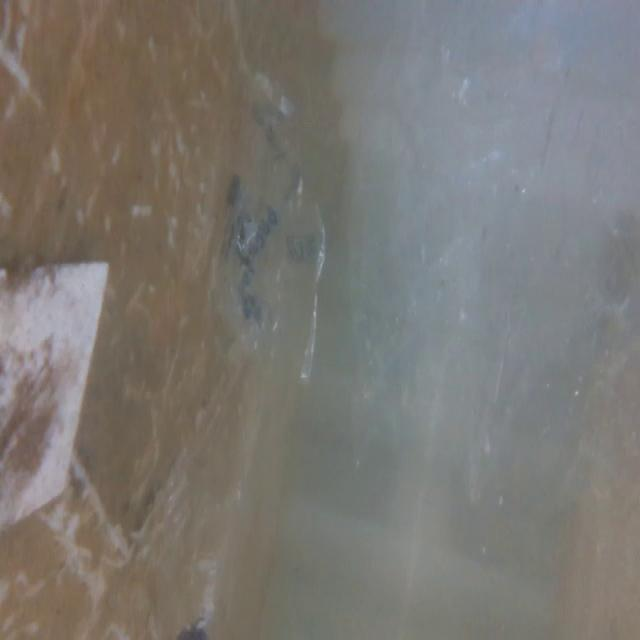metal: (0, 258, 119, 538)
plastic bags: (395, 0, 640, 488), (198, 62, 326, 380)
plastic bottle: (165, 473, 266, 640)
